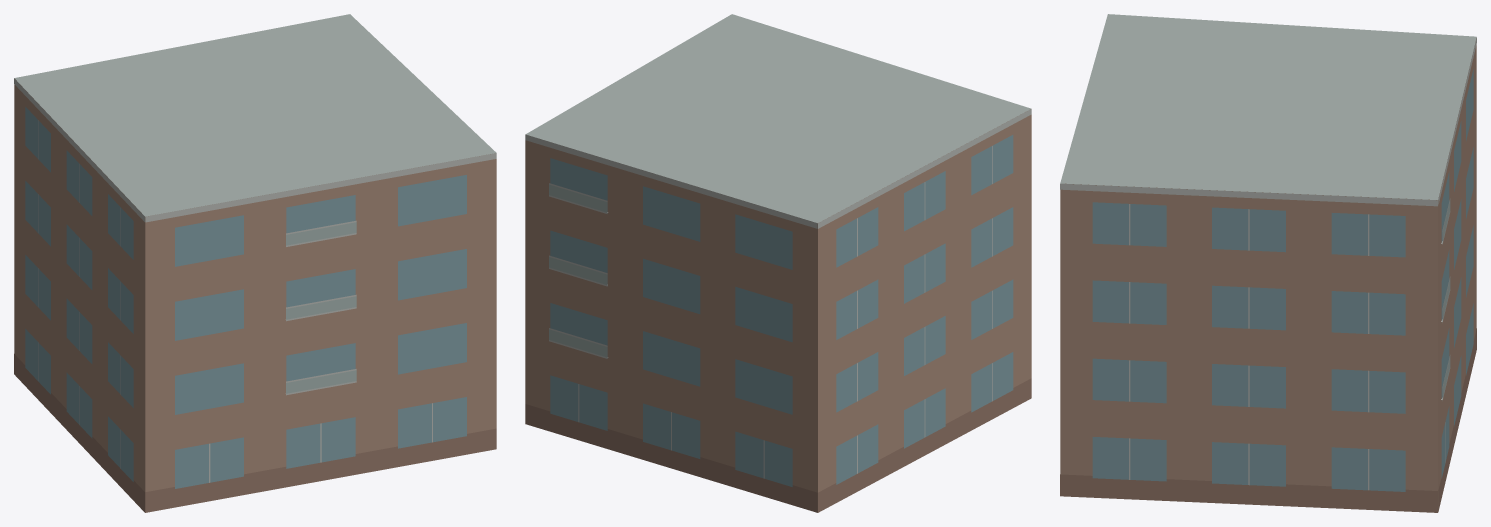
File: survey-upis-32766720.glb
3 renders of one model, left to right at view 1: azimuth 30°, elevation 25°; view 2: azimuth 150°, elevation 25°; view 3: azimuth 270°, elevation 25°, orthographic. The views are drawn at different scales.
Parts seen in each view (by area): view 1: survey-upis-32766720.tmp; view 2: survey-upis-32766720.tmp; view 3: survey-upis-32766720.tmp.
Boxes of the visible parts, x1,y1,x2,y2 form: survey-upis-32766720.tmp: (14, 14, 496, 512); survey-upis-32766720.tmp: (525, 14, 1031, 512); survey-upis-32766720.tmp: (1060, 14, 1476, 512).
Size of the model in its own units: 15.71 by 12.3 by 14.86.
